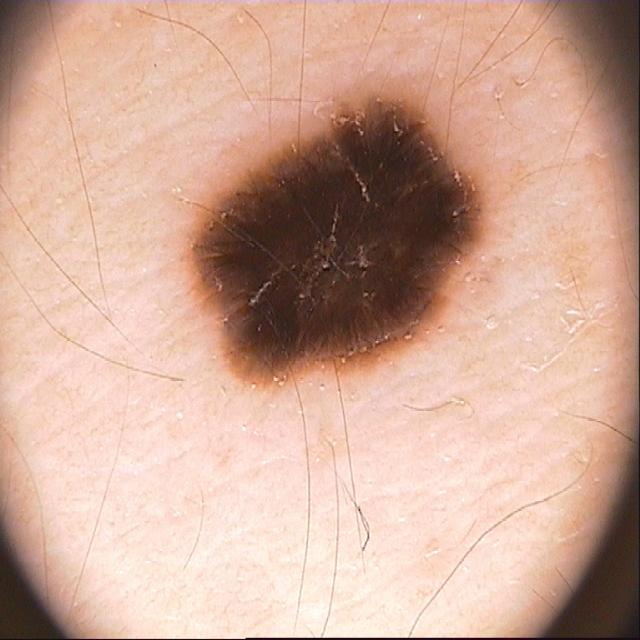Skin-Cancer Nevus: (126, 8, 564, 588)
